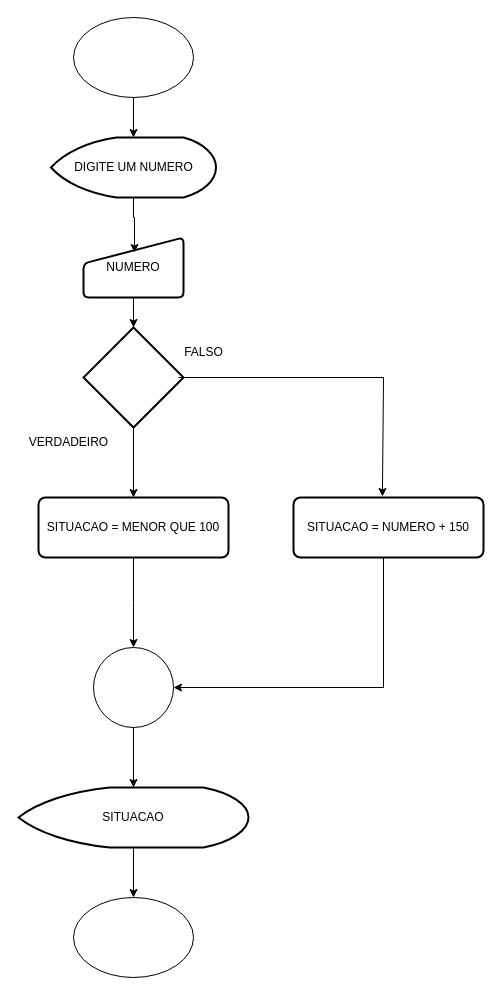
Some shapes in this 501 by 995 pixel diagram are drawn without their labels. The centre of each missing label's shape, as x and y in pixels:
"FIM" goes at point 133,937.
"INICIO" goes at point 133,57.
"NUMERO <100" goes at point 133,377.
